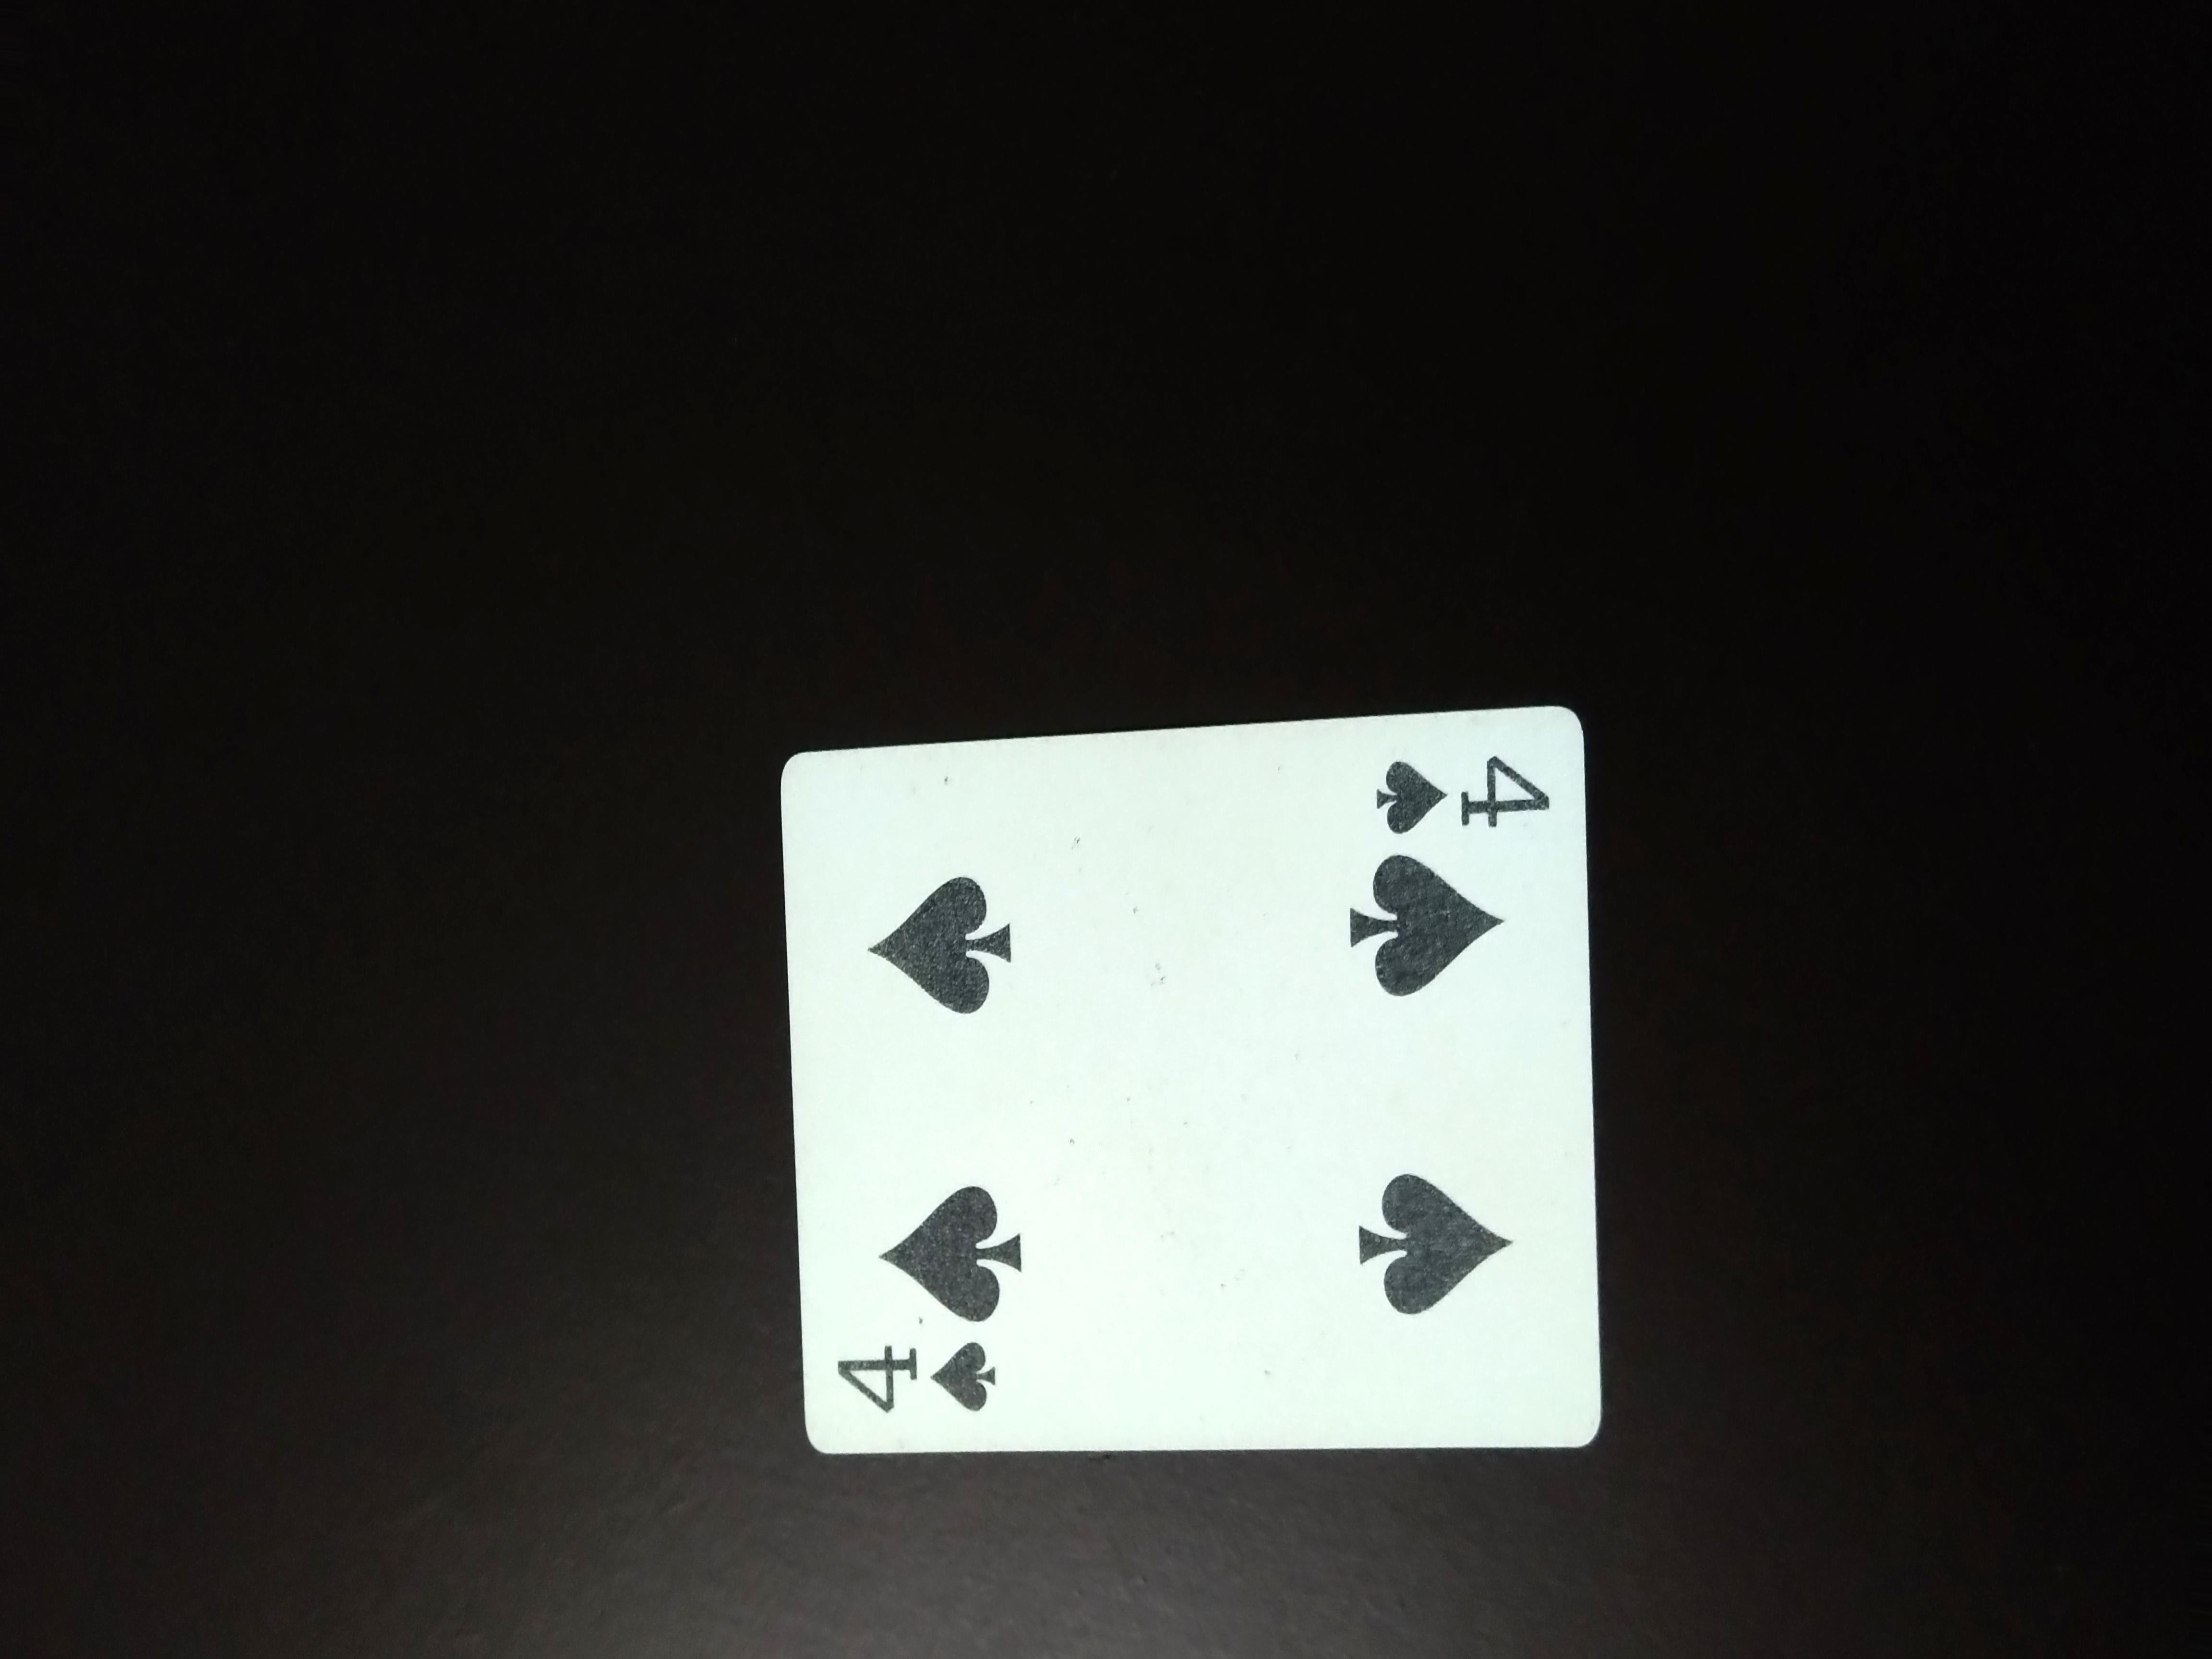4S: (1332, 741, 1571, 849)
